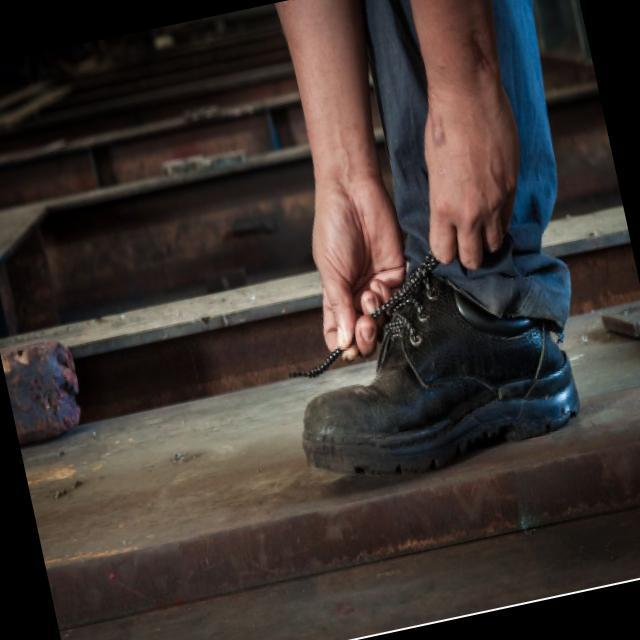shoes: (258, 218, 599, 503)
